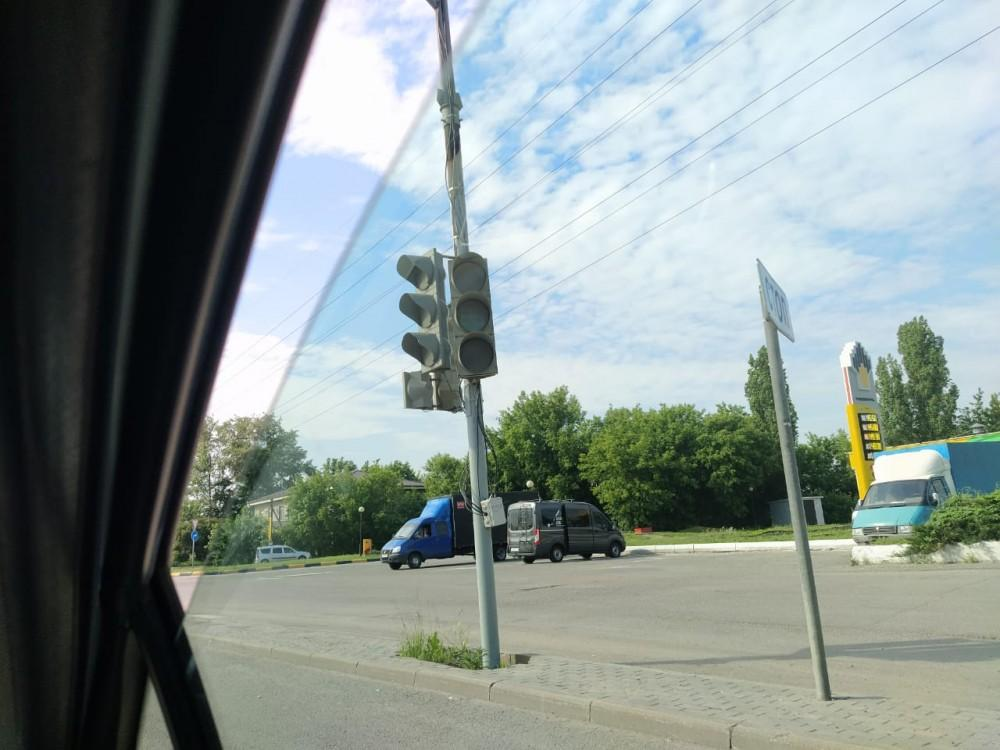off traffic light: (448, 251, 497, 380), (397, 249, 449, 370)
